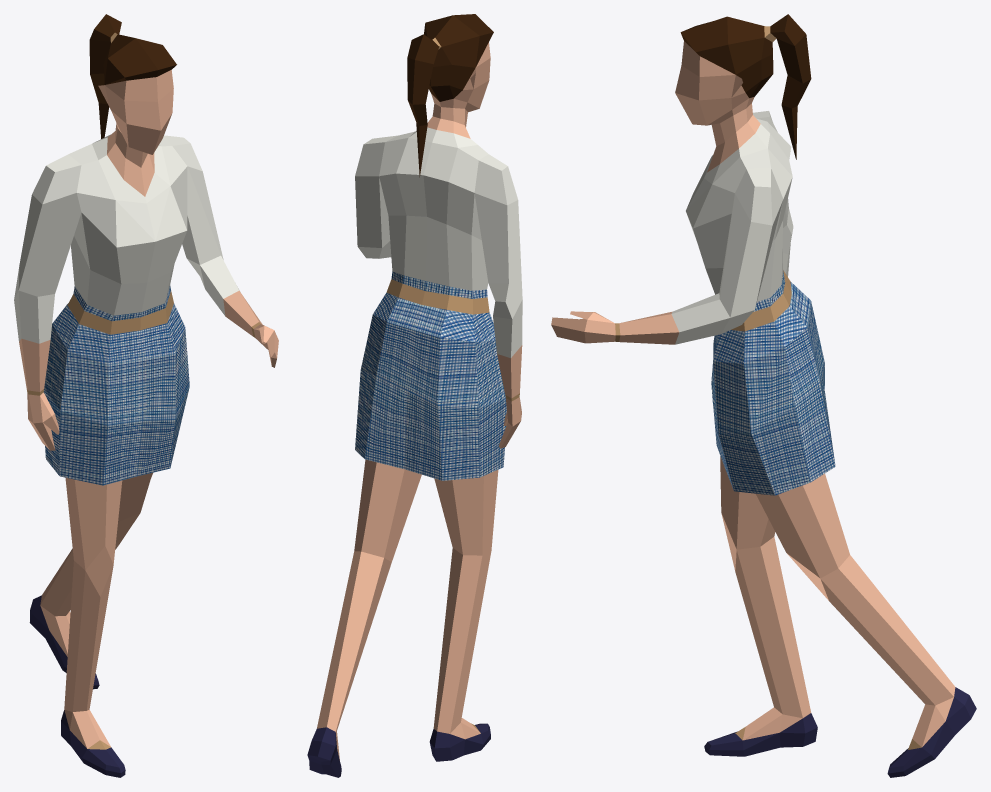
File: SpringWomanB.007.glb
3 views of the same model, side by side, from view 1: azimuth 30°, elevation 25°; view 2: azimuth 150°, elevation 25°; view 3: azimuth 270°, elevation 25° (orthographic). The views are drawn at different scales.
Visible parts, largest first — view 1: SpringWomanB.008; view 2: SpringWomanB.008; view 3: SpringWomanB.008.
Boxes of the visible parts, <box> form: SpringWomanB.008: <box>14,14,278,777</box>; SpringWomanB.008: <box>307,14,522,777</box>; SpringWomanB.008: <box>551,14,976,777</box>.
Size of the model in its own units: 0.4508 by 1.71 by 0.8767.
Materials: 1 (1 with a texture image).
